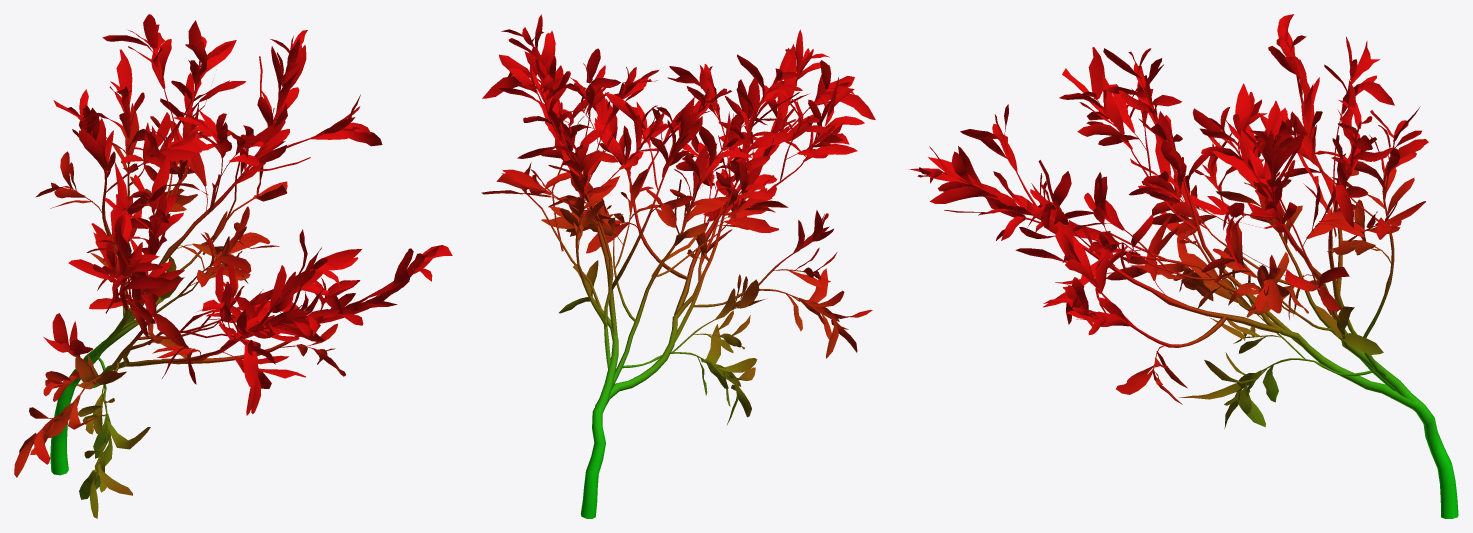
Rendered from Downy Willow_LOD1_Var10_wknlfiuqx.fbx.
The picture shows the model from 3 angles, left to right: view 1: azimuth 30°, elevation 25°; view 2: azimuth 150°, elevation 25°; view 3: azimuth 270°, elevation 25°; orthographic projection. The views are drawn at different scales.
Visible parts, largest first — view 1: _2r8g_Var10_LOD1; view 2: _2r8g_Var10_LOD1; view 3: _2r8g_Var10_LOD1.
Part boxes in pixels (x1=…): _2r8g_Var10_LOD1: x1=14, y1=14, x2=452, y2=518; _2r8g_Var10_LOD1: x1=481, y1=14, x2=875, y2=518; _2r8g_Var10_LOD1: x1=908, y1=14, x2=1458, y2=518.
Size of the model in its own units: 51.85 by 60.5 by 60.62.
